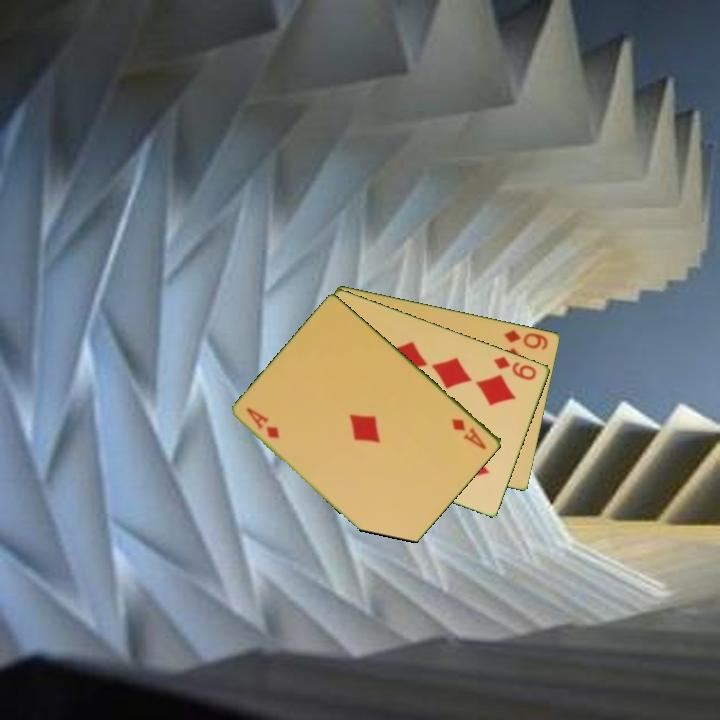6d: (501, 326, 551, 353)
9d: (490, 353, 540, 383)
Ad: (448, 415, 489, 453), (243, 404, 283, 442)
